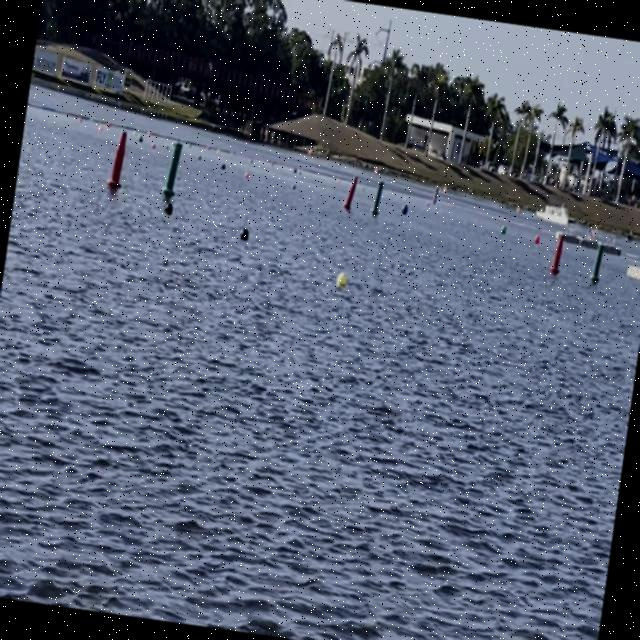buoy: (336, 272, 348, 288), (239, 228, 250, 242), (164, 202, 174, 216), (533, 234, 541, 245), (501, 224, 508, 236), (402, 204, 408, 217)
